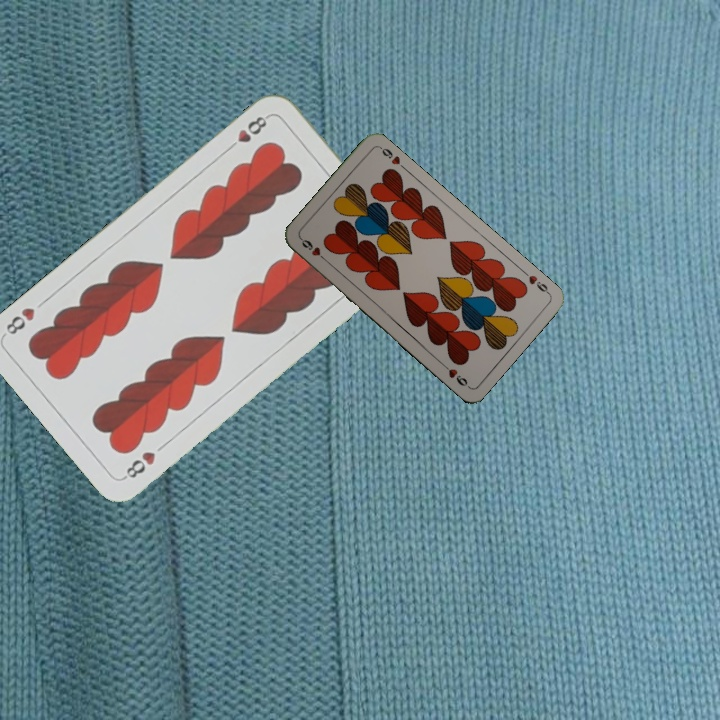H8: (223, 111, 271, 154), (119, 447, 158, 482)
H9: (518, 266, 552, 297), (297, 234, 330, 265)
